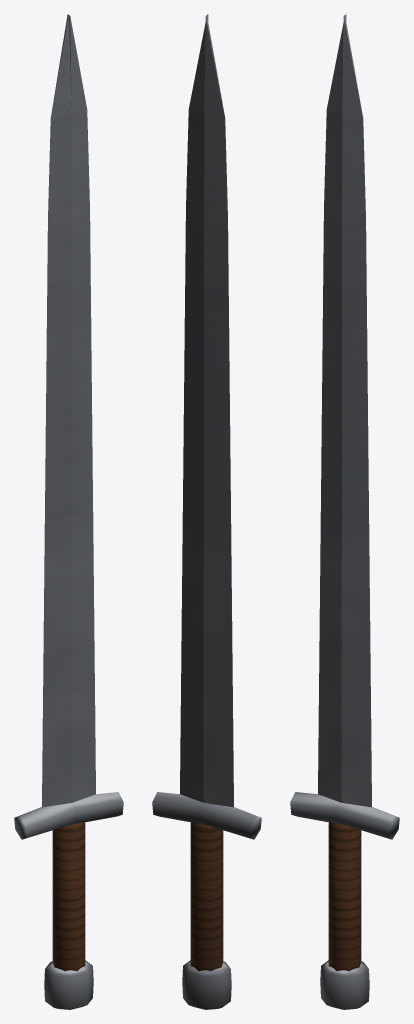
Rendered from epee-celte.glb.
3 views of the same model, side by side, from view 1: azimuth 30°, elevation 25°; view 2: azimuth 150°, elevation 25°; view 3: azimuth 330°, elevation 25° (orthographic).
Visible parts, largest first — view 1: epee-celte; view 2: epee-celte; view 3: epee-celte.
Part boxes in pixels (x1,y1,x2,y2): epee-celte: (14, 14, 123, 1009); epee-celte: (152, 14, 261, 1009); epee-celte: (290, 14, 399, 1009).
Bounding box in the file's own units: 0.1024 × 0.975 × 0.0371.
Materials: 1 (1 with a texture image).
